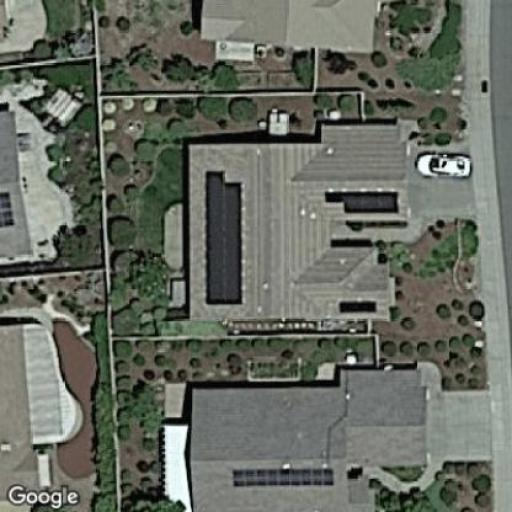solar-panel: (199, 166, 250, 308), (230, 468, 336, 490), (324, 188, 401, 214), (0, 188, 22, 228), (334, 297, 380, 316)
